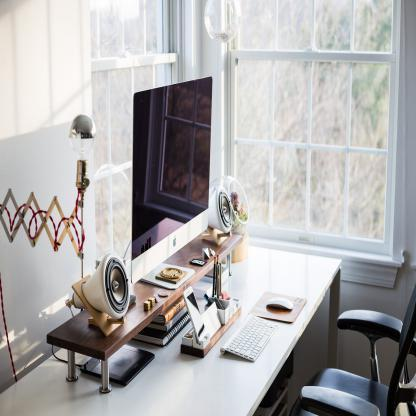chair: (298, 258, 416, 416)
table: (0, 230, 343, 416), (45, 223, 244, 396)
